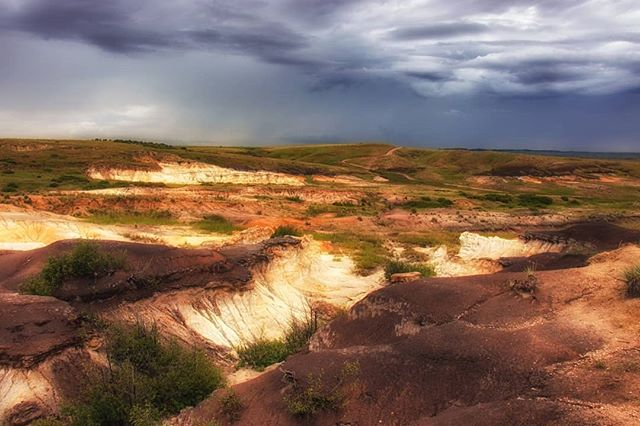grass: (254, 147, 499, 186), (1, 141, 142, 200)
sky: (4, 1, 640, 139)
